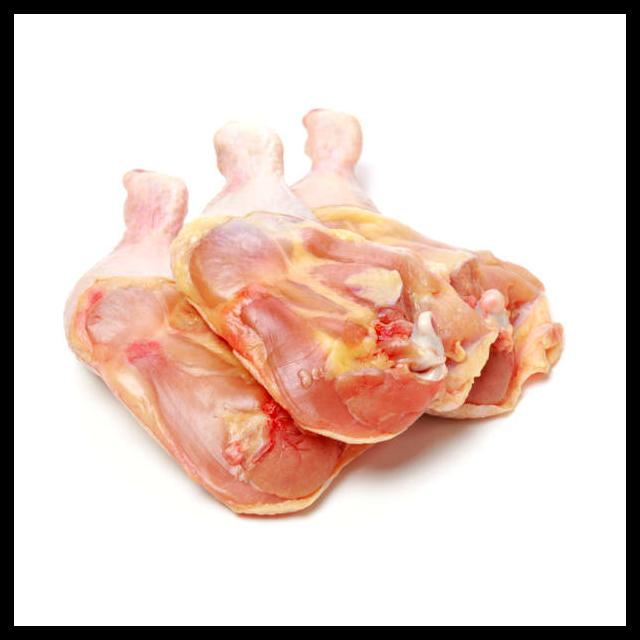chicken: (60, 105, 567, 522)
